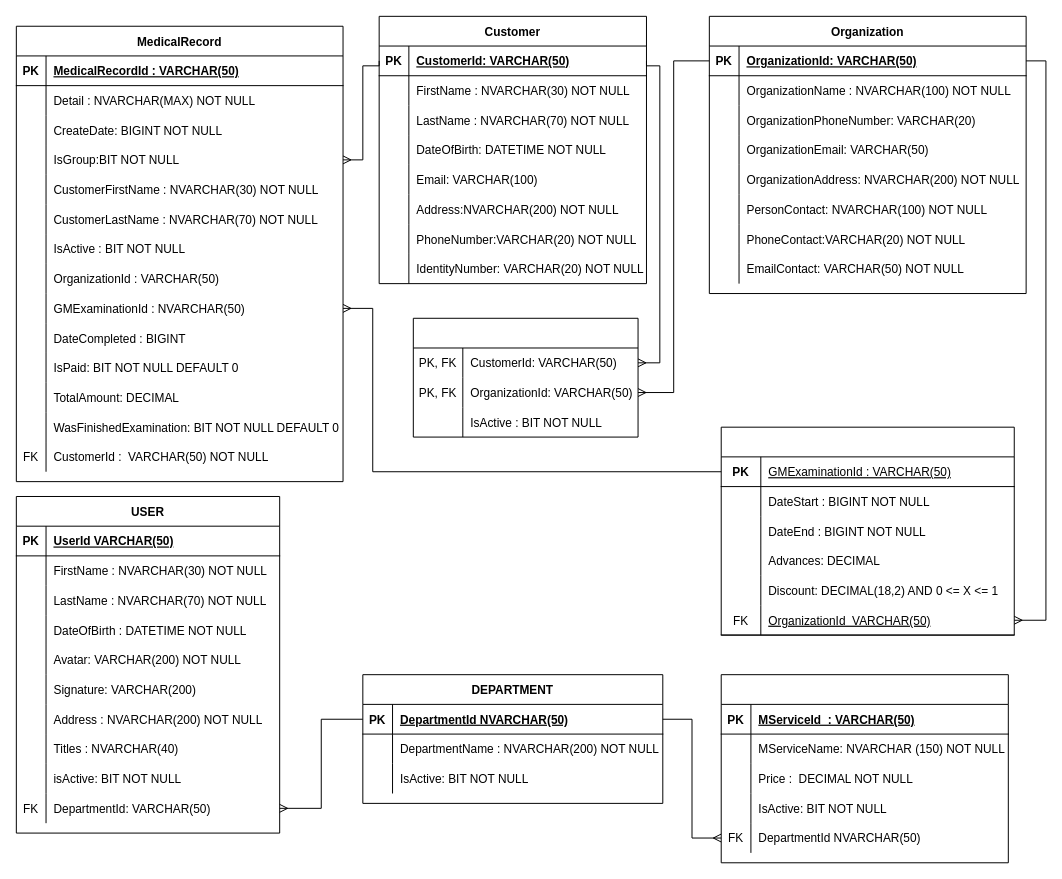
The diagram is 1062 pixels wide and 879 high, and some of its shapes have lost their labels. The shapes that lost their labels are listed below. From the top down, each one's box as (x1, y1, x2, y2) in pixels, then its label:
(412, 317, 638, 437): CustomerOrganization
(720, 426, 1014, 635): GroupMedicalExamination
(720, 674, 1008, 863): MedicalService
